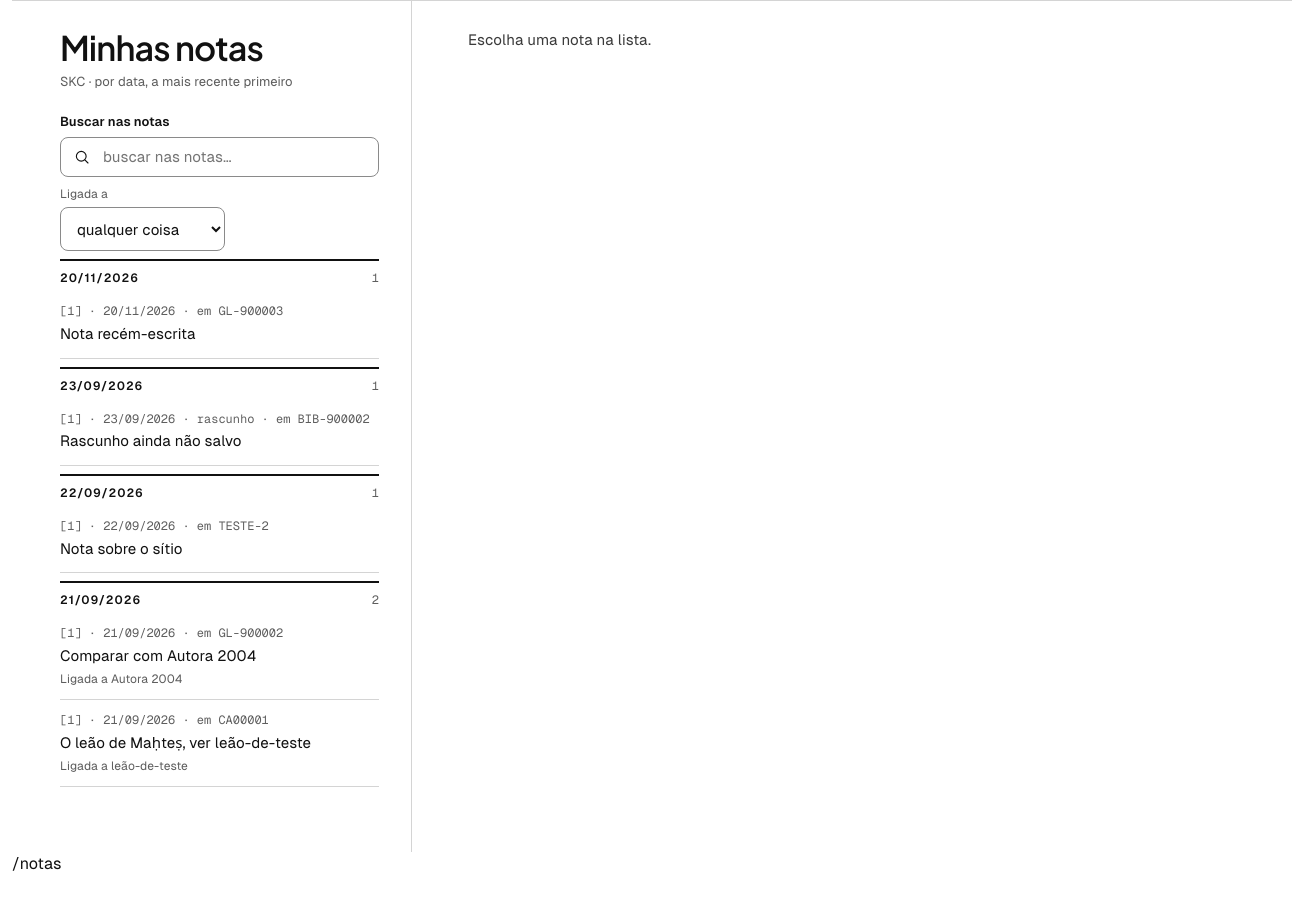
Scenario: Minhas notas no computador: a lista e a nota lado a lado › sem nota escolhida, o painel pede para escolher; escolher abre o editor com o texto e o rótulo
Expected: the text "Escolha uma nota na lista." is shown, [468,31,651,48]
Click the link "[1] · 22/09/2026 · em TESTE-2 Nota sobre o sítio". click: x=164, y=526
box: [60,506,379,573]
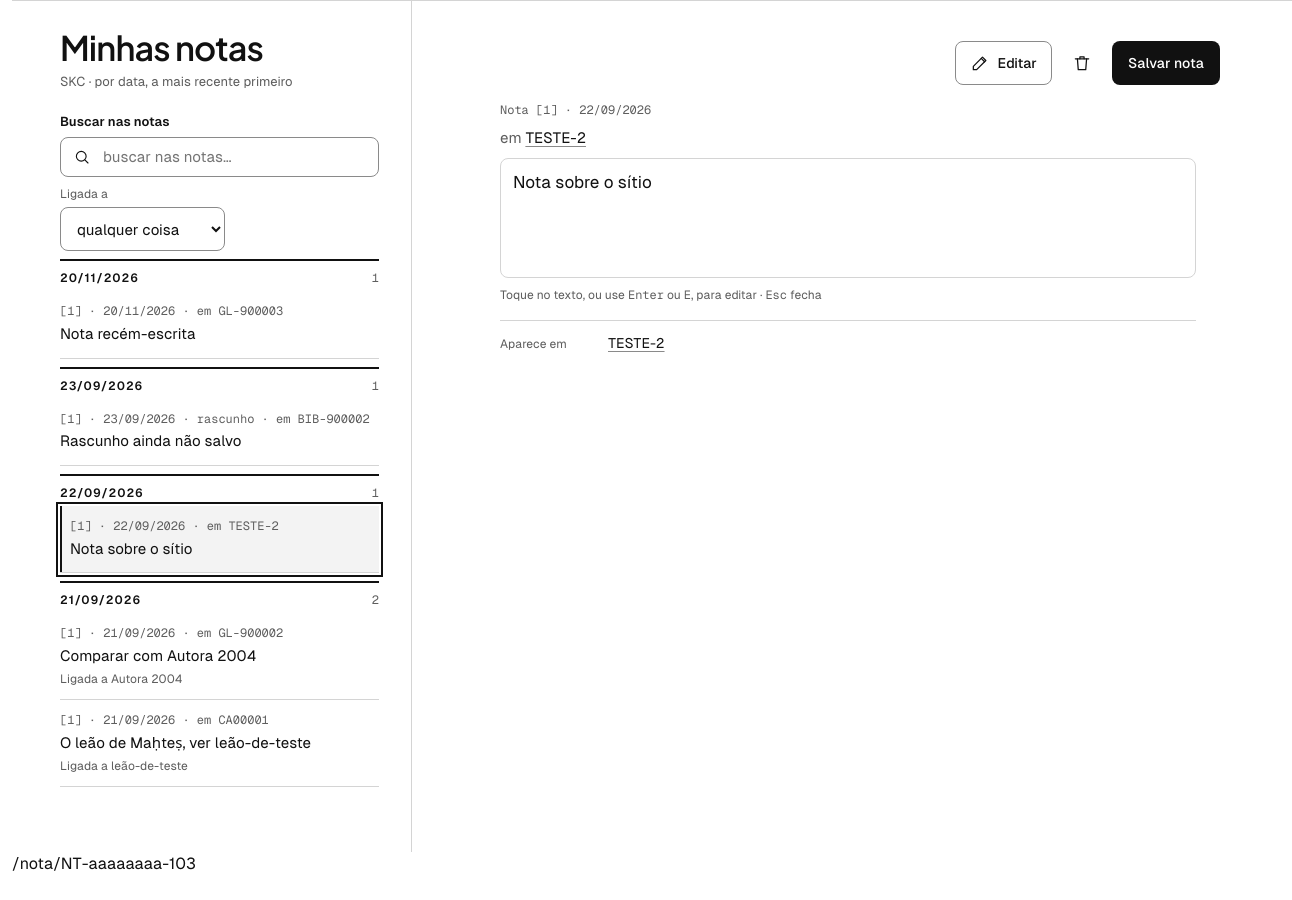
Now the text with test id "endereco" reads "/nota/NT-aaaaaaaa-103", box [12,854,196,873]
Now the element "Nota sobre o sítio" is shown, box [500,158,1196,278]
Click the button "Editar". click: x=1003, y=63
box: [955,41,1052,85]
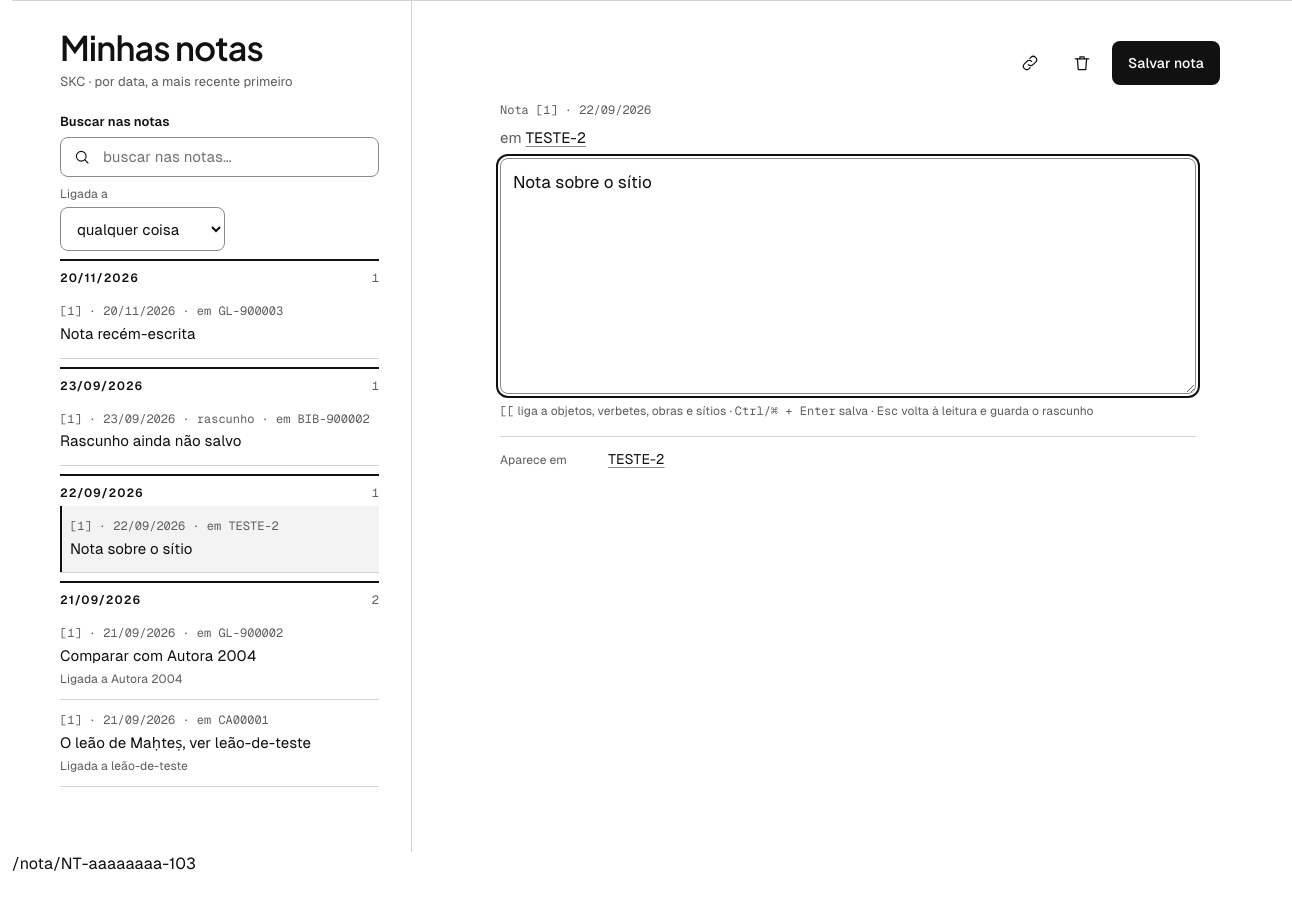
Now the text box labelled "Nota [1] · 22/09/2026" holds "Nota sobre o sítio", box [500,158,1196,394]
